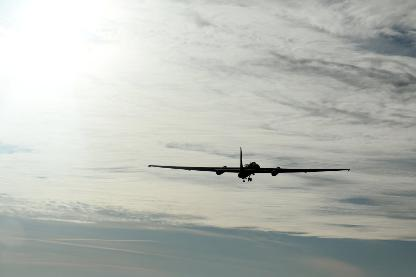Tu160: (148, 146, 350, 181)
